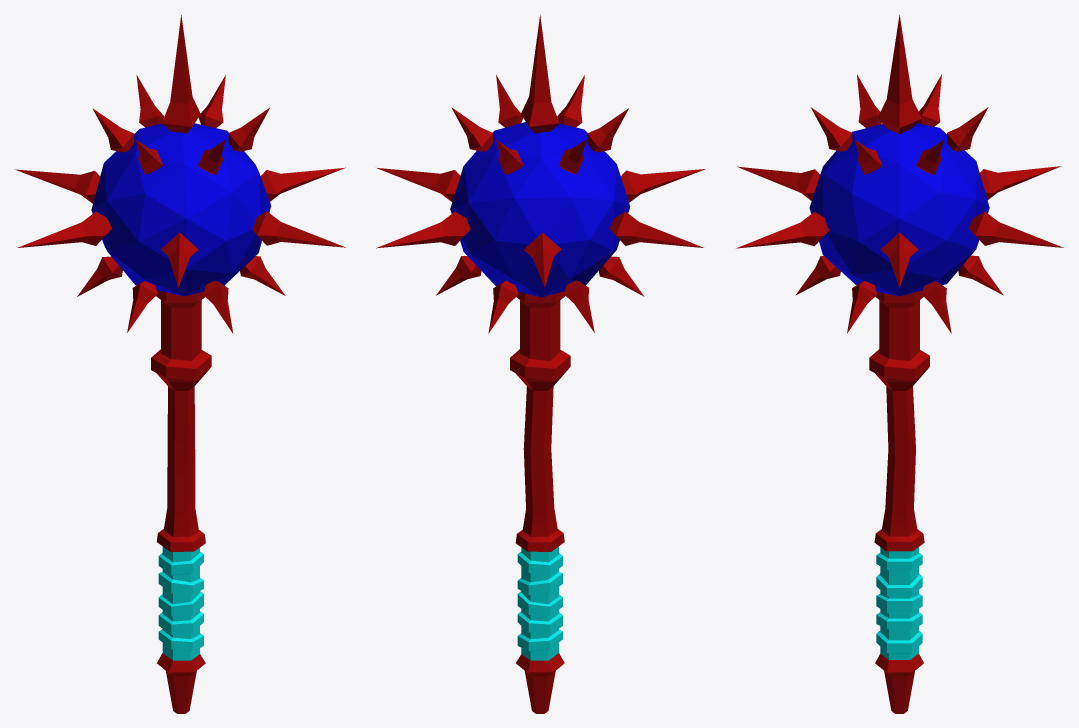
The model's file is Mace_Legendary_SpikeyBoi.fbx.
3 views of the same model, side by side, from view 1: azimuth 30°, elevation 25°; view 2: azimuth 150°, elevation 25°; view 3: azimuth 270°, elevation 25° (orthographic).
Visible parts, largest first — view 1: SM_Wep_Hammer_Mace_Spikes_01; view 2: SM_Wep_Hammer_Mace_Spikes_01; view 3: SM_Wep_Hammer_Mace_Spikes_01.
Part boxes in pixels (x1,y1,x2,y2): SM_Wep_Hammer_Mace_Spikes_01: (14, 15, 345, 713); SM_Wep_Hammer_Mace_Spikes_01: (376, 15, 705, 713); SM_Wep_Hammer_Mace_Spikes_01: (736, 15, 1063, 713).
Size of the model in its own units: 0.5014 by 1.01 by 0.4337.
